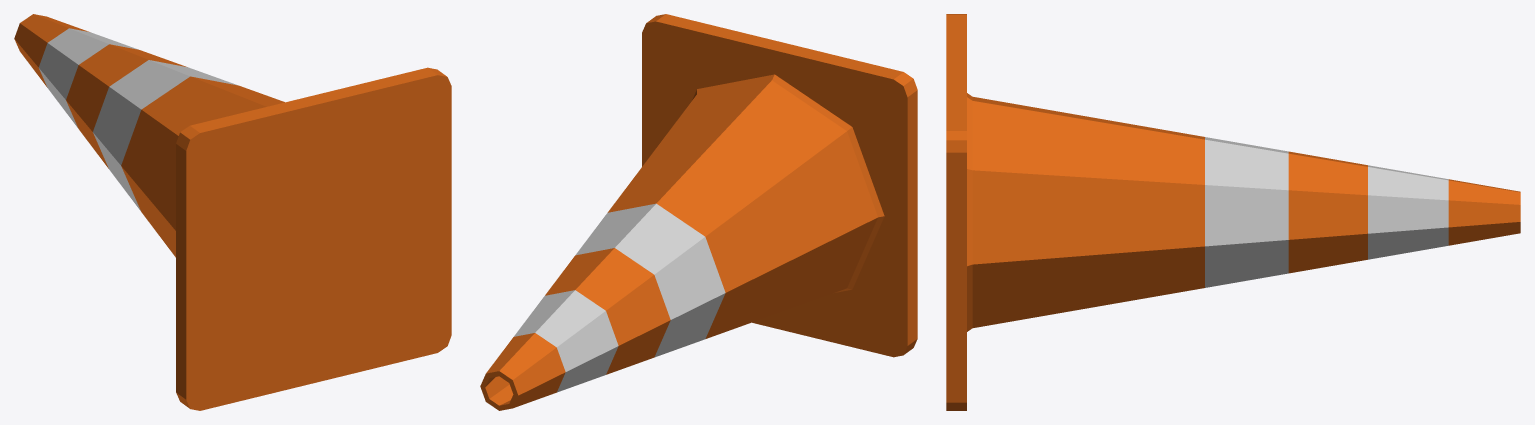
The model's file is Construction_Sign_04.fbx.
3 renders of one model, left to right at view 1: azimuth 30°, elevation 25°; view 2: azimuth 150°, elevation 25°; view 3: azimuth 270°, elevation 25°, orthographic.
Parts seen in each view (by area): view 1: Construction_Sign_04; view 2: Construction_Sign_04; view 3: Construction_Sign_04.
Boxes of the visible parts, left/top/right/bottom form: Construction_Sign_04: left=14, top=14, right=451, bottom=410; Construction_Sign_04: left=480, top=14, right=917, bottom=410; Construction_Sign_04: left=946, top=14, right=1520, bottom=410.
Size of the model in its own units: 0.3273 by 0.3273 by 0.6098.
